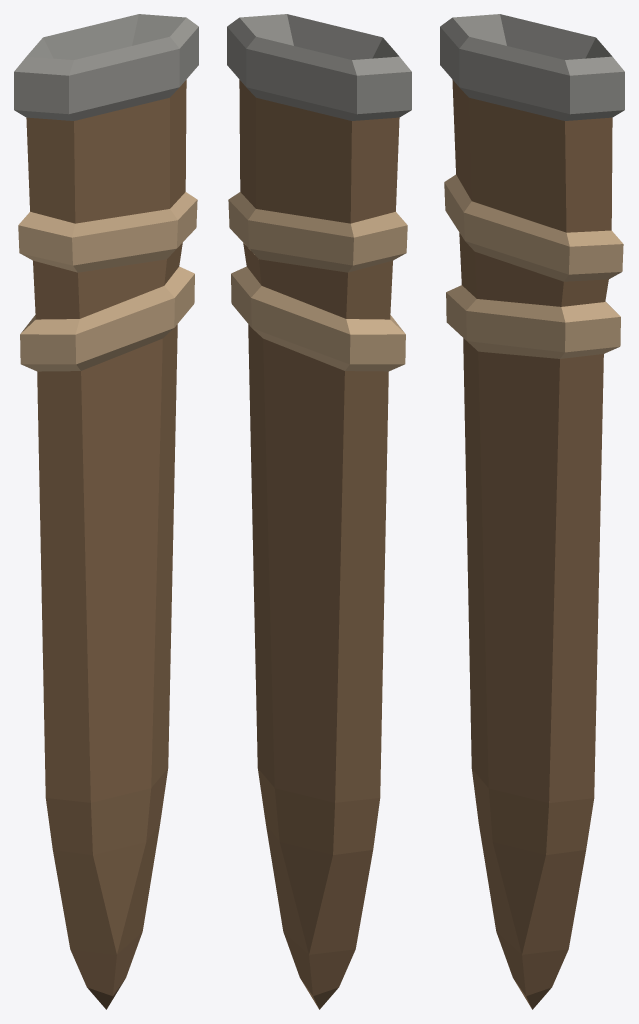
File: SM_pwe_medieval_dagger_scabbard_02.fbx
3 views of the same model, side by side, from view 1: azimuth 30°, elevation 25°; view 2: azimuth 150°, elevation 25°; view 3: azimuth 330°, elevation 25° (orthographic).
Visible parts, largest first — view 1: SM_pwe_medieval_dagger_scabbard_02; view 2: SM_pwe_medieval_dagger_scabbard_02; view 3: SM_pwe_medieval_dagger_scabbard_02.
Boxes of the visible parts, <box> form: SM_pwe_medieval_dagger_scabbard_02: <box>14,14,198,1009</box>; SM_pwe_medieval_dagger_scabbard_02: <box>227,14,411,1009</box>; SM_pwe_medieval_dagger_scabbard_02: <box>440,14,624,1009</box>.
Size of the model in its own units: 7.68 by 38.65 by 2.58.
